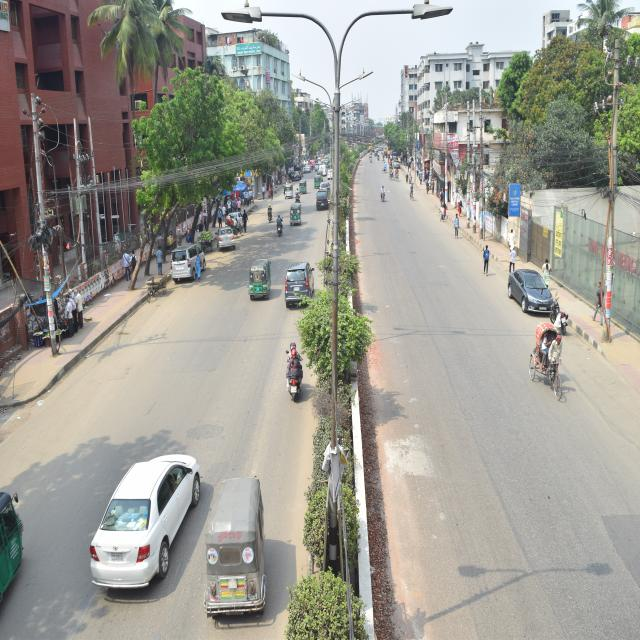car: (76, 399, 199, 618), (500, 256, 558, 313), (214, 216, 242, 258)
microbus: (283, 256, 322, 320), (166, 238, 210, 292), (310, 188, 334, 218)
motorbike: (276, 344, 306, 406), (545, 291, 570, 332), (275, 211, 286, 241)
